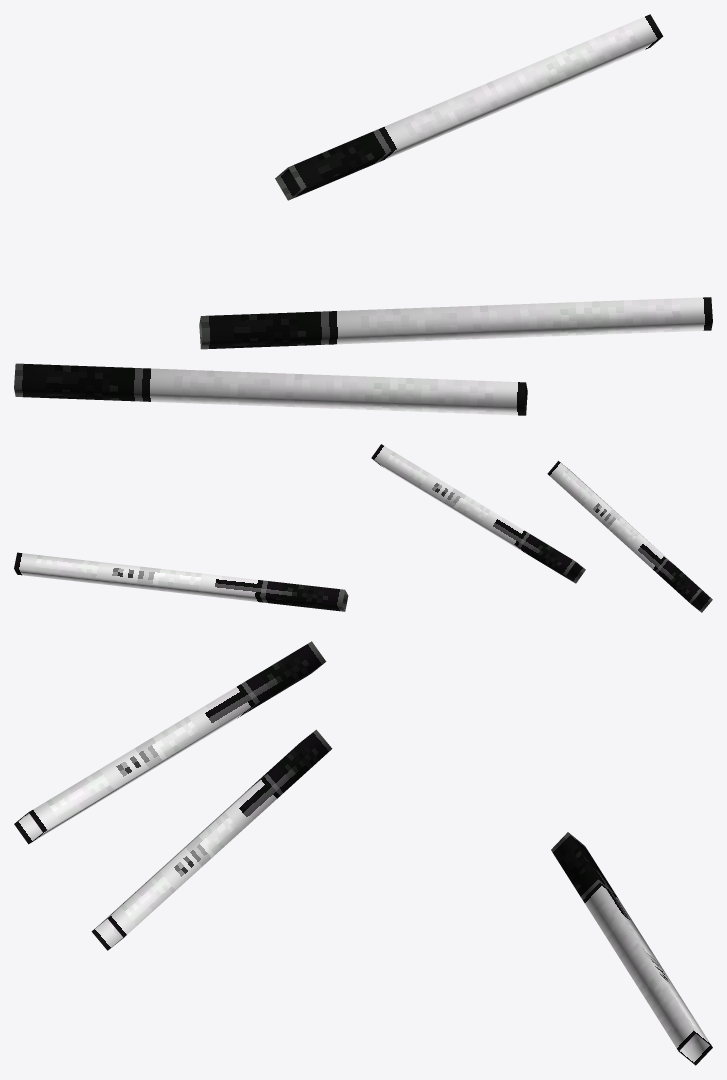
The model's file is pens_group.fbx.
3 renders of one model, top to bottom at view 1: azimuth 30°, elevation 25°; view 2: azimuth 150°, elevation 25°; view 3: azimuth 270°, elevation 25°, orthographic. The views are drawn at different scales.
Visible parts, largest first — view 1: mesh_0; view 2: mesh_0; view 3: mesh_0.
Part boxes in pixels (x1,y1,x2,y2): mesh_0: [14, 14, 712, 415]; mesh_0: [14, 444, 712, 612]; mesh_0: [14, 641, 712, 1065].
Bounding box in the file's own units: 25.48 × 0.96 × 18.89.
Materials: 1 (1 with a texture image).
